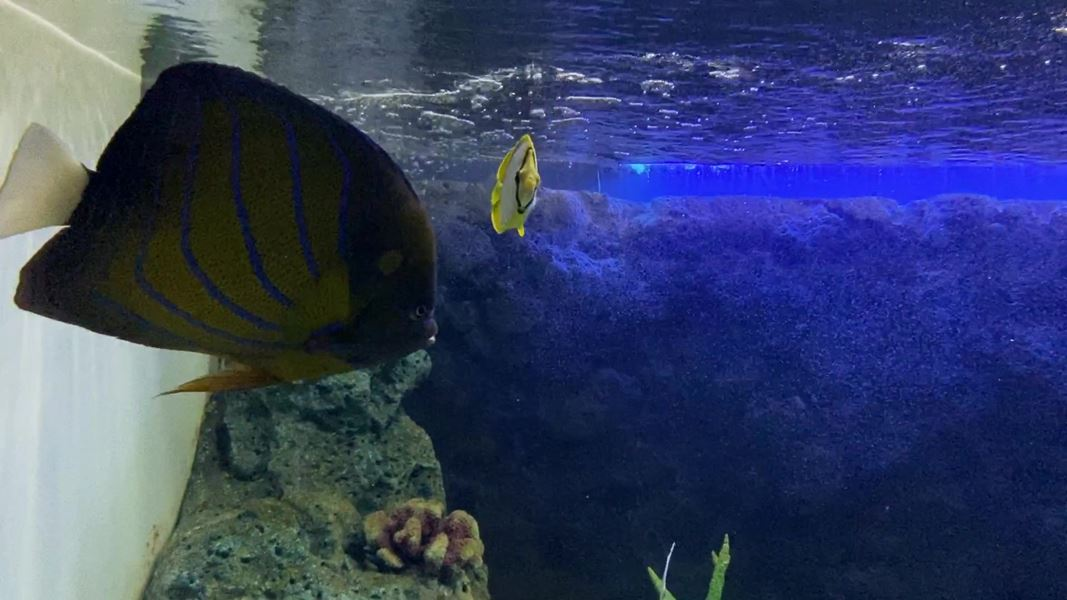Blue ring angelfish: (1, 50, 451, 407)
